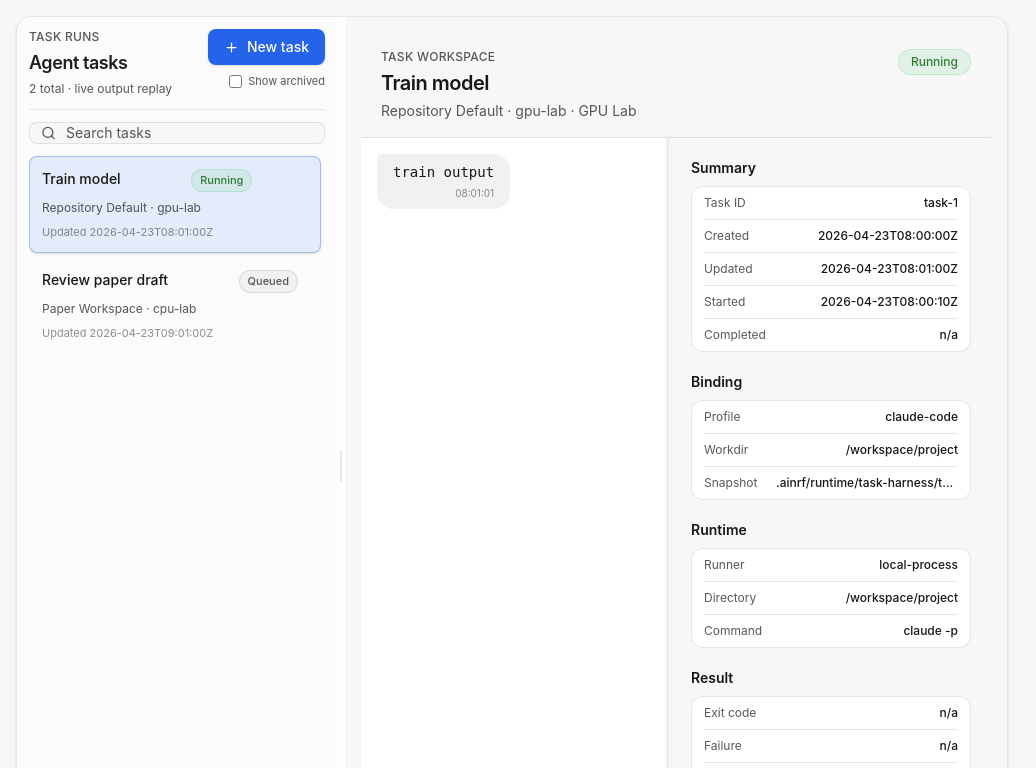
Test: TasksPage › clears old output and binds a fresh stream when switching tasks
Expected: the text "train output" is shown, 393,162 -> 494,182
Click the button "Review paper draft".
click(175, 306)  # box 29,257 -> 321,354
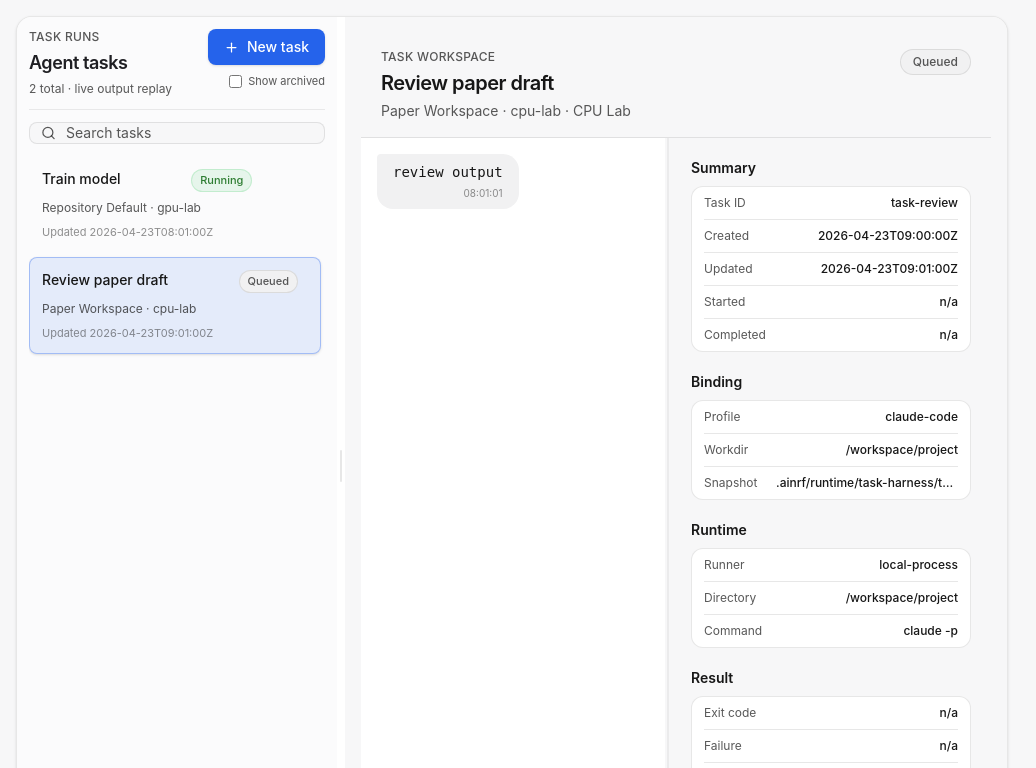
Expected: the text "review output" is shown, 393,162 -> 503,182
Expected: the text "train output" is gone
